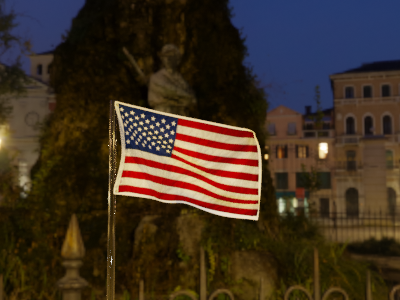America flag: (114, 99, 263, 222)
